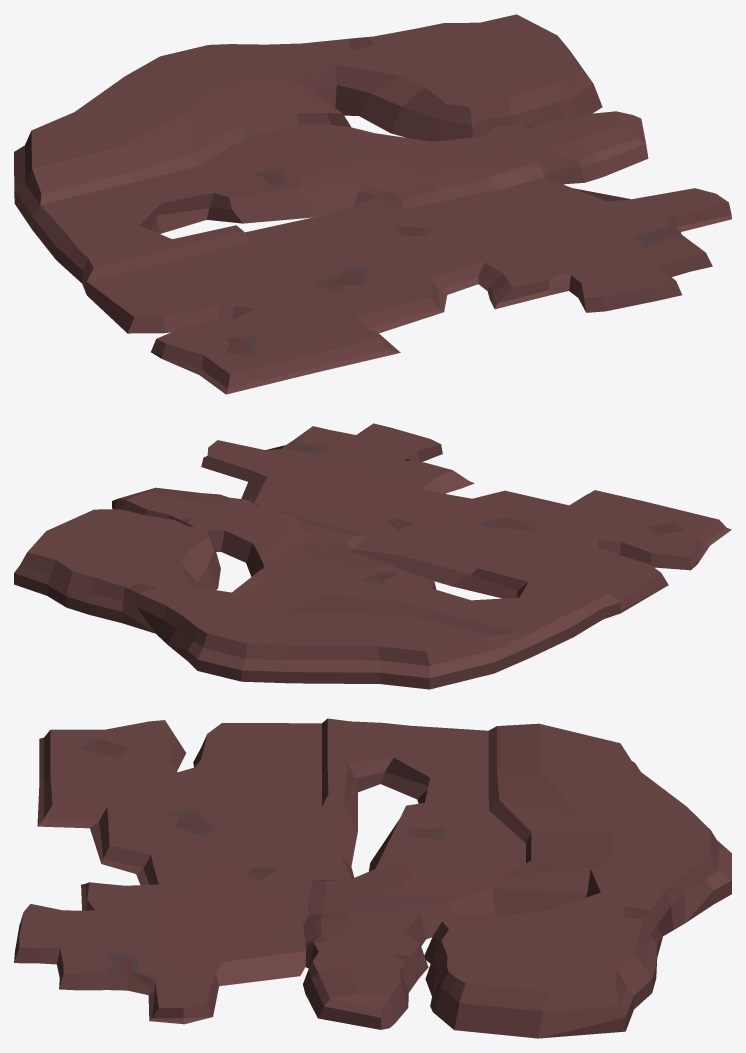
The model's file is hell_idle_base_large.fbx.
The picture shows the model from 3 angles, top to bottom: view 1: azimuth 30°, elevation 25°; view 2: azimuth 150°, elevation 25°; view 3: azimuth 270°, elevation 25°; orthographic projection. The views are drawn at different scales.
Parts seen in each view (by area): view 1: Plane.001; view 2: Plane.001; view 3: Plane.001.
Boxes of the visible parts, left/top/right/bottom form: Plane.001: left=14, top=14, right=731, bottom=394; Plane.001: left=14, top=423, right=731, bottom=689; Plane.001: left=14, top=718, right=731, bottom=1038.
Size of the model in its own units: 34142 by 33812 by 2405.
Materials: 1 (1 with a texture image).
